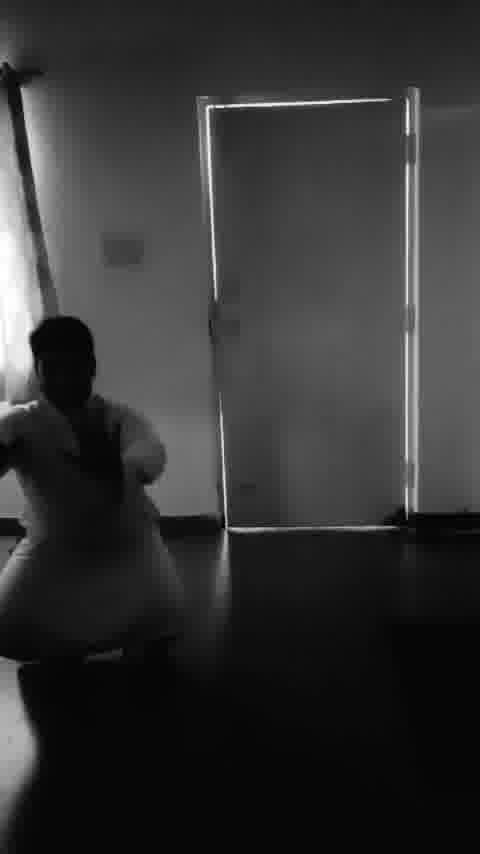duck: (5, 311, 210, 684)
